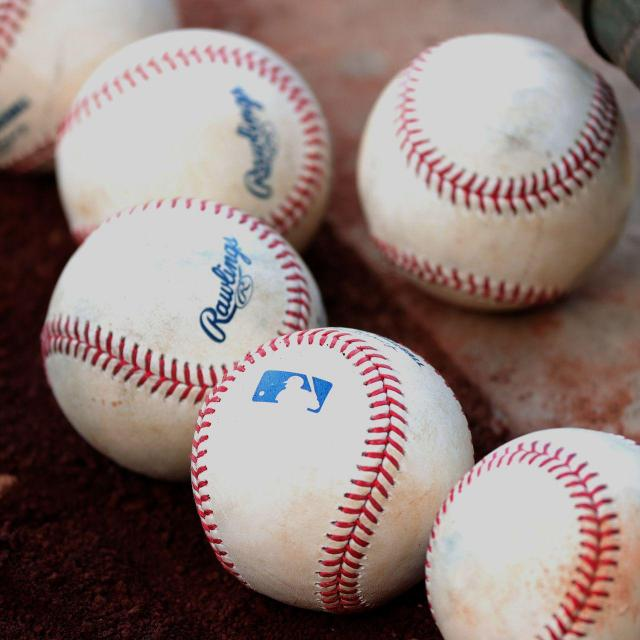baseball: (357, 32, 627, 308), (188, 320, 435, 609), (40, 197, 284, 473), (56, 29, 332, 227), (424, 423, 632, 615)
